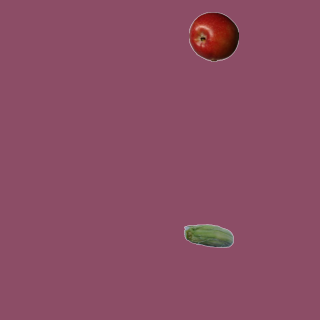Apple Braeburn: (188, 11, 238, 61)
Corn Husk: (183, 212, 233, 262)
